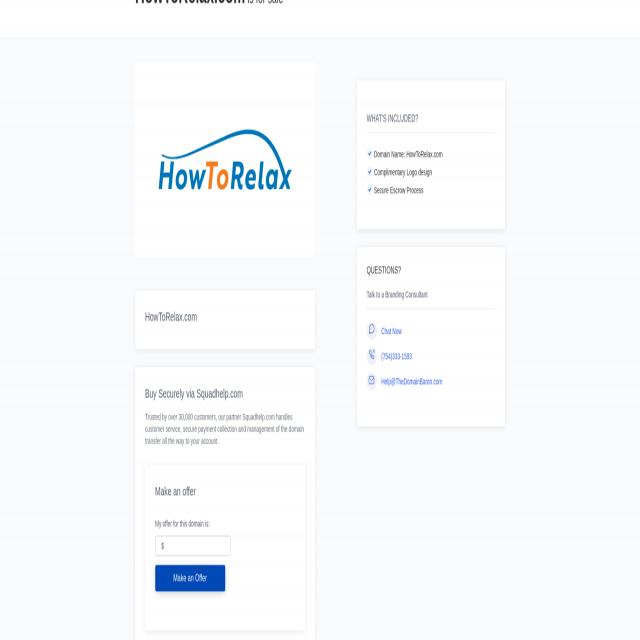button: (133, 50, 313, 259), (155, 566, 225, 592), (367, 322, 378, 341), (367, 373, 378, 391), (367, 348, 377, 366)
field: (156, 535, 230, 555), (367, 148, 373, 159), (367, 166, 373, 177), (367, 184, 373, 195)
